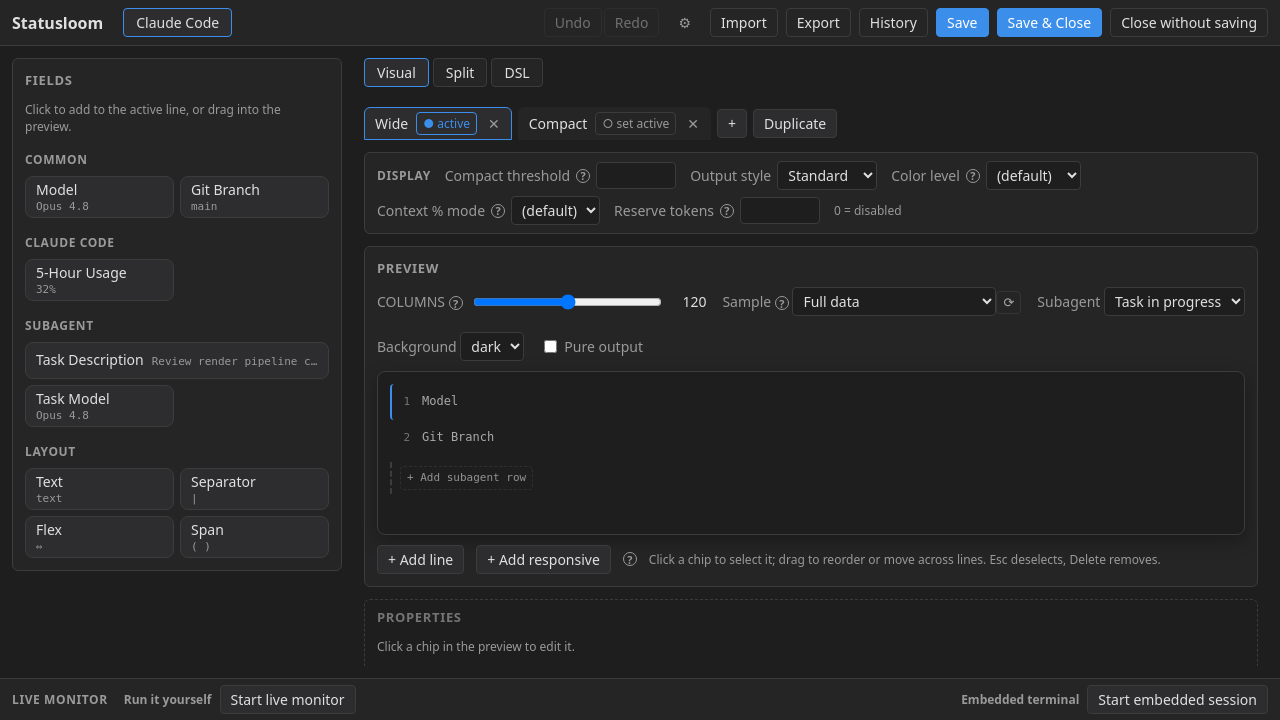
Test case: layout tabs › deletes a layout but never the last one
Expected: the button "Wide" is shown, [371,110,412,137]
Step 1. Click the 2nd button titled "Delete this layout" → (693, 124), box [680,111,706,136]
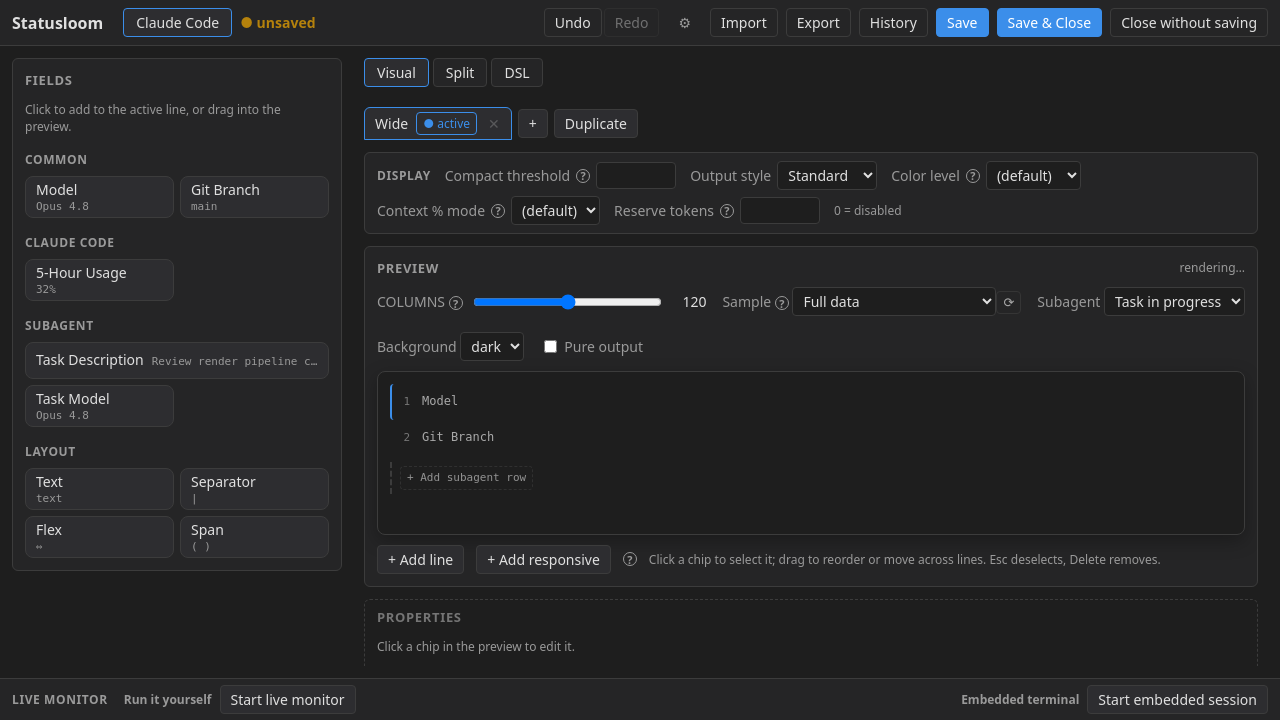
Expected: the button titled "Delete this layout" is disabled, [481,111,507,136]
